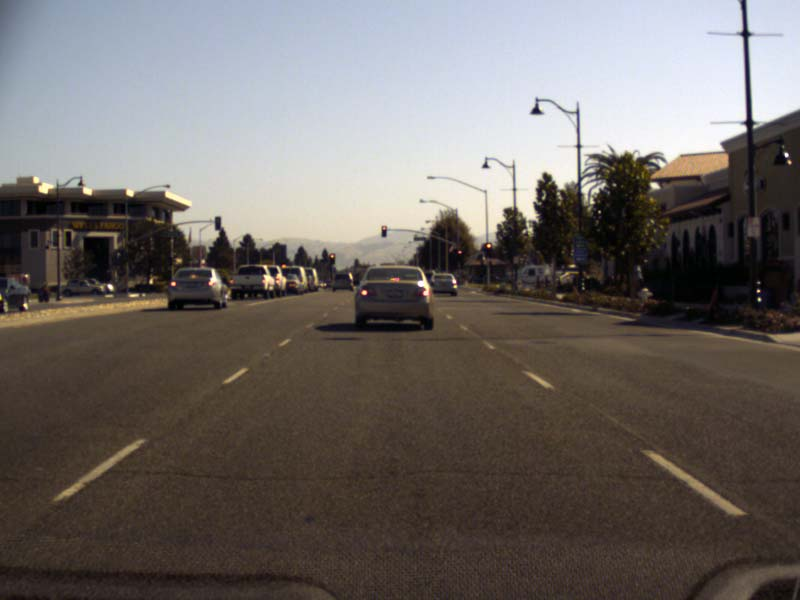Red: (485, 243, 491, 256), (381, 226, 386, 237), (330, 253, 334, 264), (457, 250, 461, 259)
